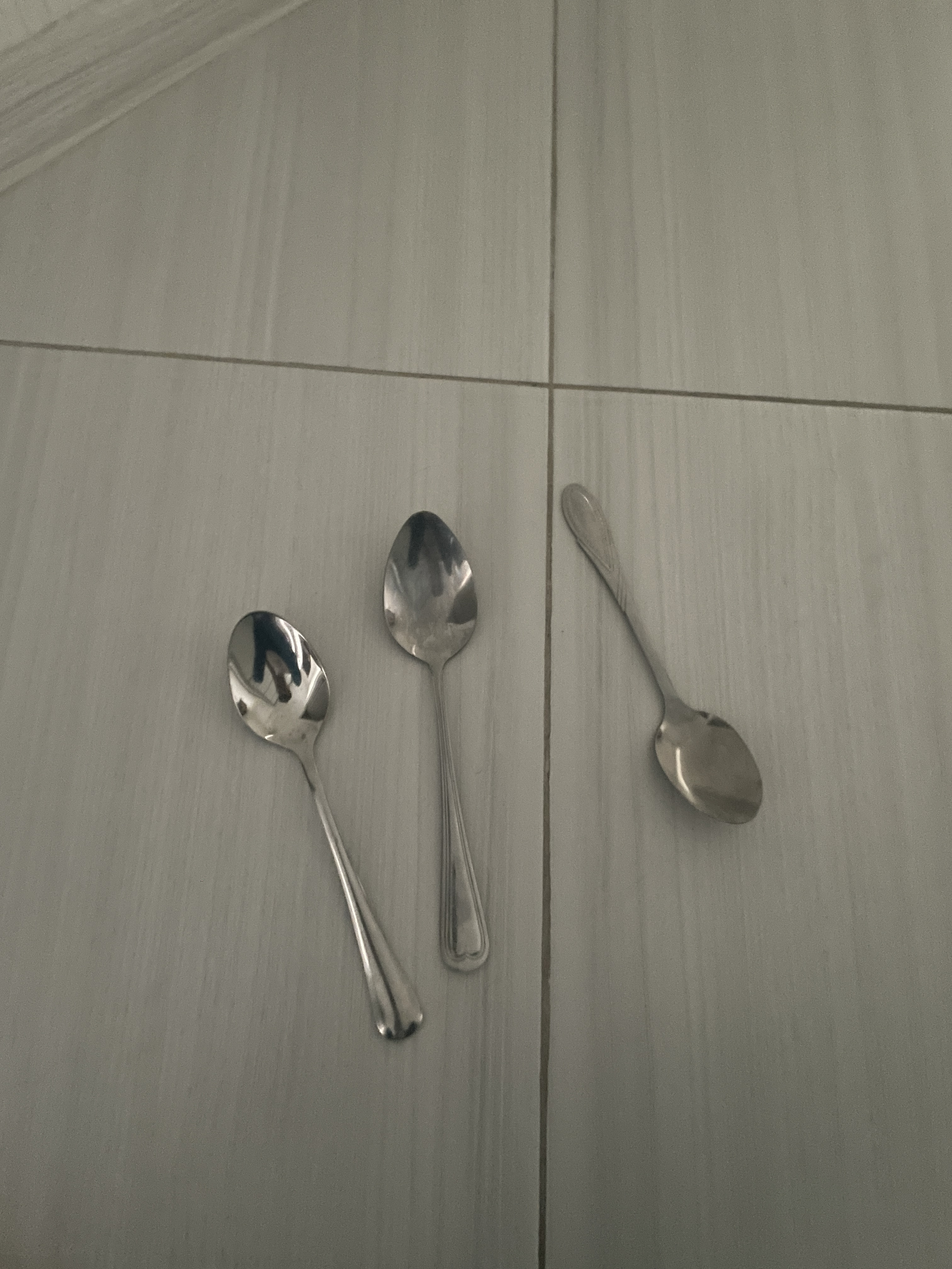spoon: (228, 611, 422, 1039), (561, 484, 762, 824), (384, 511, 489, 972)
